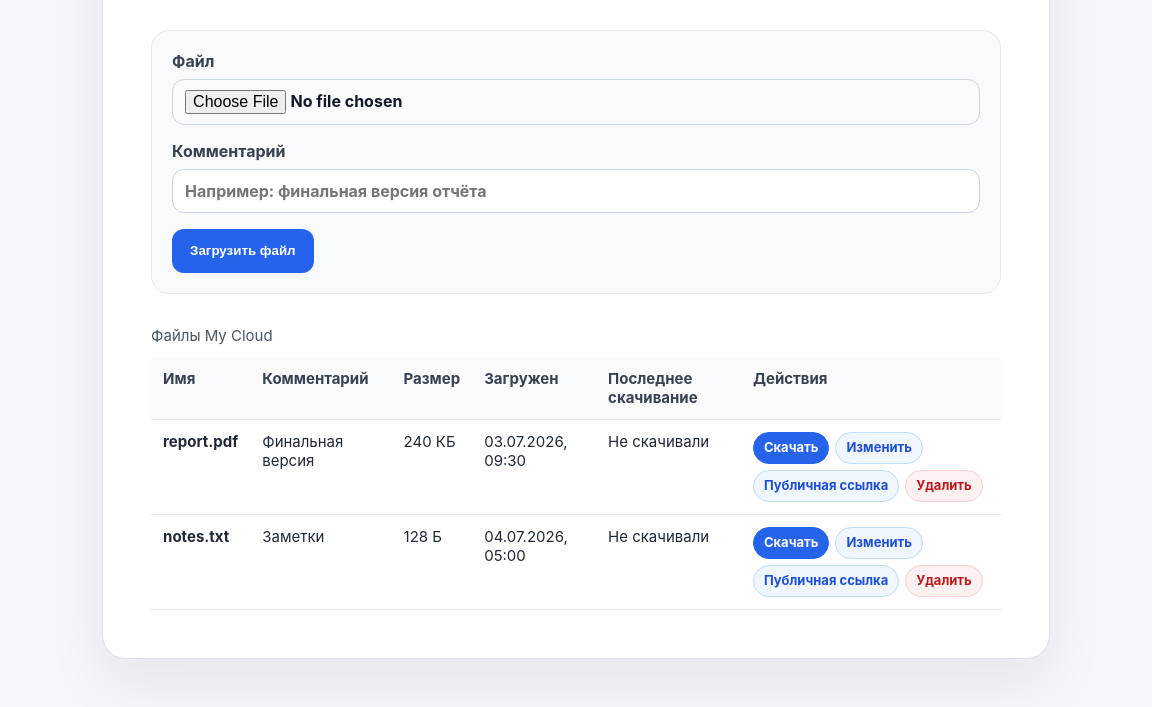
Test: App › shows file delete error
This screenshot has width=1152, height=707.
(page scrolled)
Expected: the column heading "report.pdf" is shown, [151,419,250,514]
Click the 1st button "Удалить": (944, 486) [905,470,983,502]
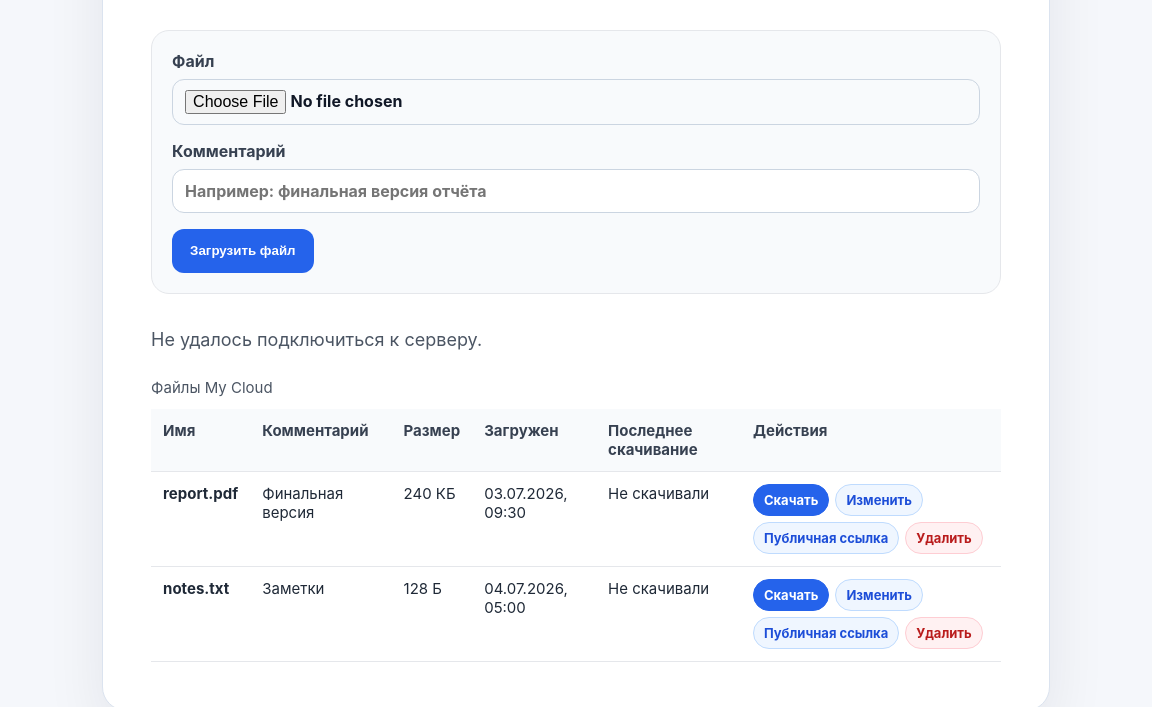
Result: the message reads "Не удалось подключиться к серверу." at [151,329,482,350]
